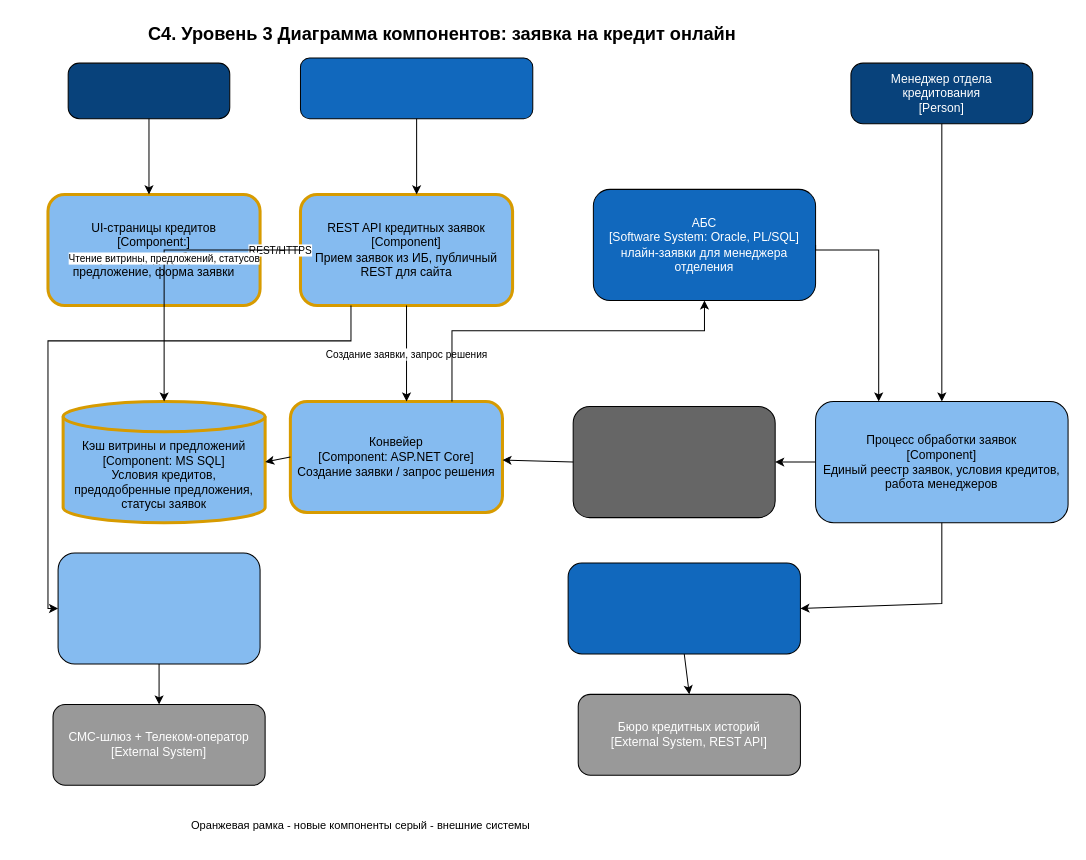
This 1086x860 diagram has some shape labels left out. Here are the shapes that lost their labels. From the top down, the centre of each, then its label:
the point at 148,90: Клиент банка [Person]
the point at 416,88: Сайт [Software System] Витрина кредитов, форма заявки нового клиента
the point at 673,462: Apache Kafka
the point at 158,608: Сервис уведомлений [Component: из ADR-001]
the point at 683,608: Система кредитного скоринга [Software System: Python PostgreSQL]
